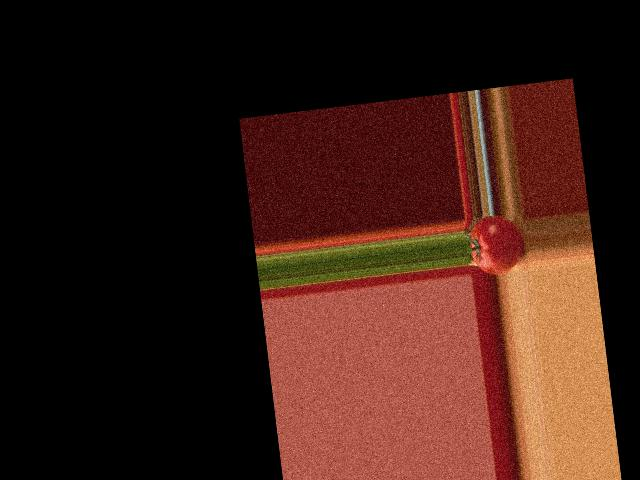tomato: (467, 212, 525, 277)
